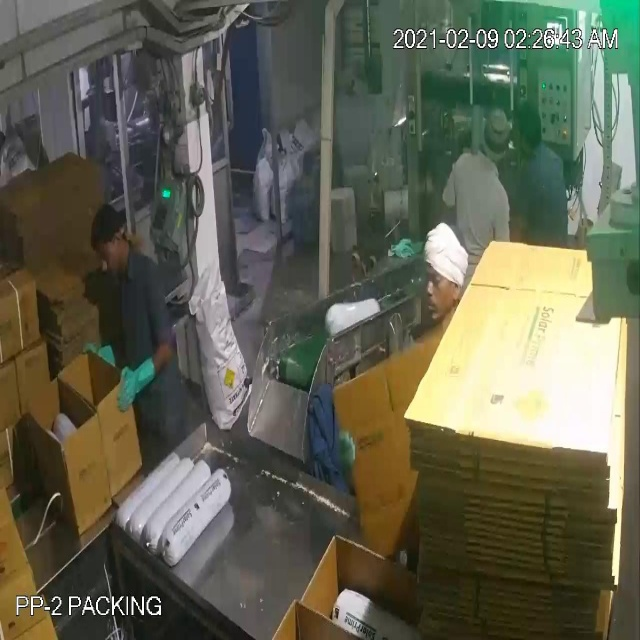Guantes: (113, 354, 167, 418), (79, 333, 120, 380)
